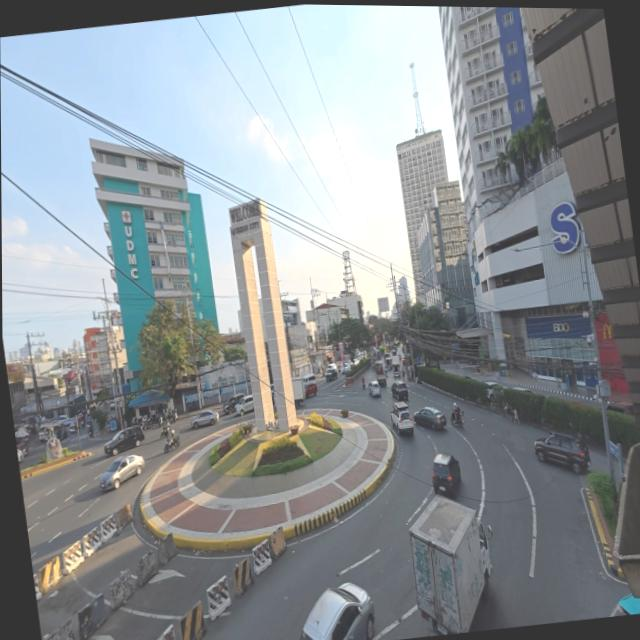Jeepneys: (393, 362, 401, 379), (385, 354, 392, 367)
car: (301, 583, 375, 639), (534, 432, 590, 475), (101, 455, 144, 490), (431, 453, 461, 497), (104, 425, 144, 456), (391, 402, 414, 434), (414, 407, 446, 429), (610, 595, 639, 616), (191, 410, 218, 428), (223, 394, 244, 413), (235, 395, 254, 415), (391, 381, 409, 401), (486, 381, 502, 400), (305, 382, 318, 398), (368, 381, 381, 397), (39, 425, 51, 442), (325, 367, 338, 381), (512, 386, 534, 394), (16, 442, 28, 455), (328, 363, 338, 373), (270, 383, 275, 402), (17, 449, 24, 461), (57, 415, 67, 422), (109, 401, 116, 411), (353, 357, 360, 366), (392, 349, 397, 356)
motorcycle: (450, 409, 465, 428), (164, 435, 179, 452), (166, 410, 177, 422), (160, 425, 170, 438), (88, 428, 94, 437), (363, 380, 366, 389)
trucks: (410, 496, 491, 635), (373, 359, 387, 387), (292, 377, 305, 404)
vans: (303, 374, 316, 383)
